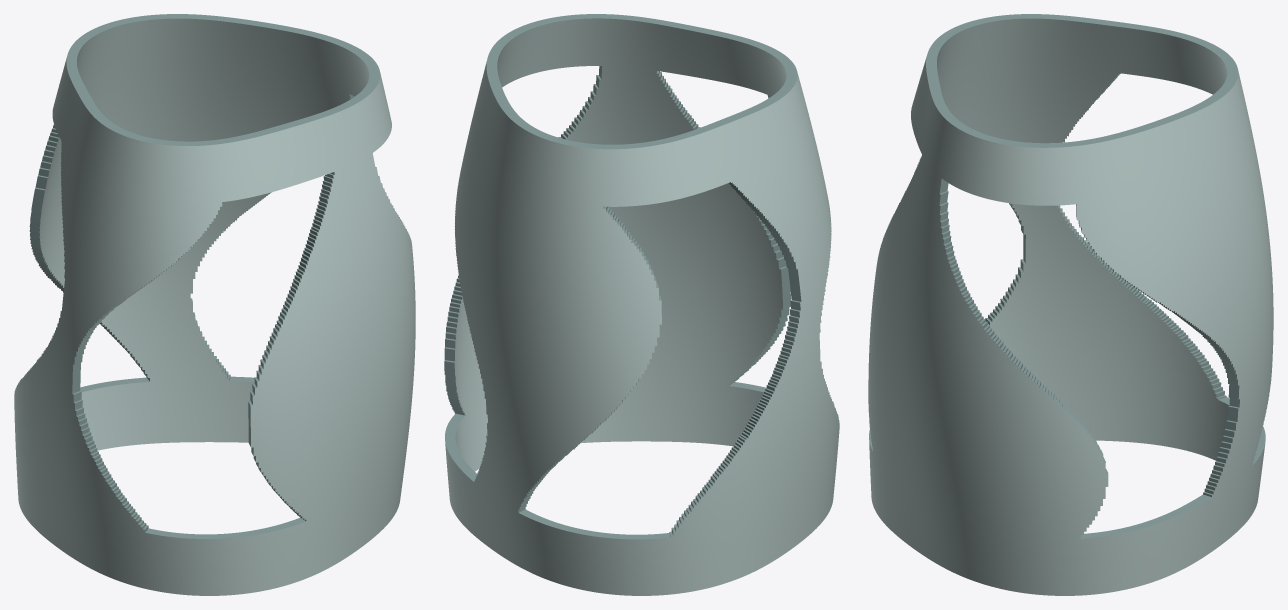
The model's file is current-channel-lantern.glb.
3 views of the same model, side by side, from view 1: azimuth 30°, elevation 25°; view 2: azimuth 150°, elevation 25°; view 3: azimuth 270°, elevation 25° (orthographic).
Visible parts, largest first — view 1: current-channel-lantern; view 2: current-channel-lantern; view 3: current-channel-lantern.
Boxes of the visible parts, box(x1,y1,x2,y2) form: current-channel-lantern: box(14, 14, 415, 595); current-channel-lantern: box(444, 14, 839, 595); current-channel-lantern: box(868, 14, 1273, 595).
Bounding box in the file's own units: 151 × 182 × 154.
